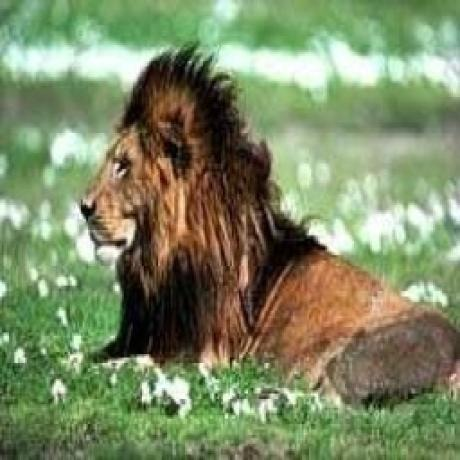Lion: (81, 38, 460, 408)
